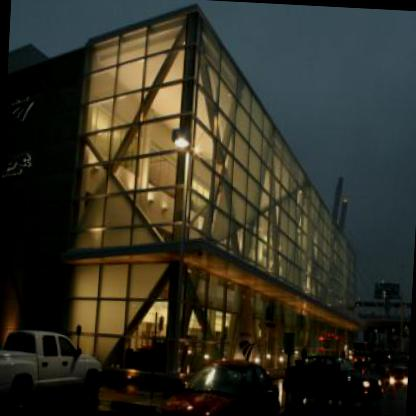car: (152, 350, 289, 415), (285, 352, 382, 410), (388, 367, 407, 392)
